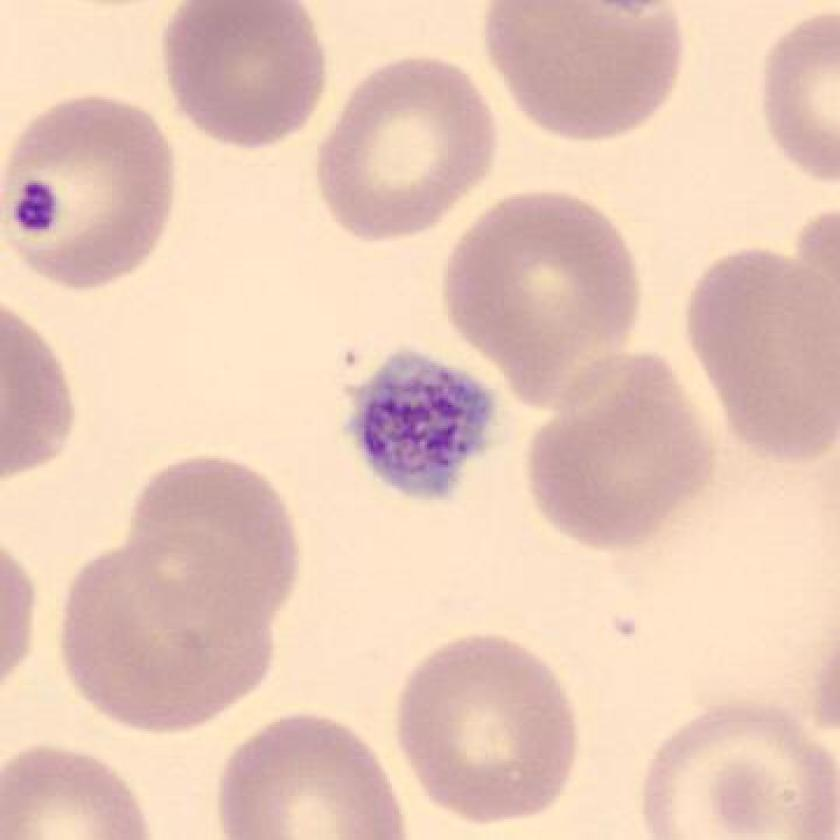platelets: (337, 334, 512, 515)
